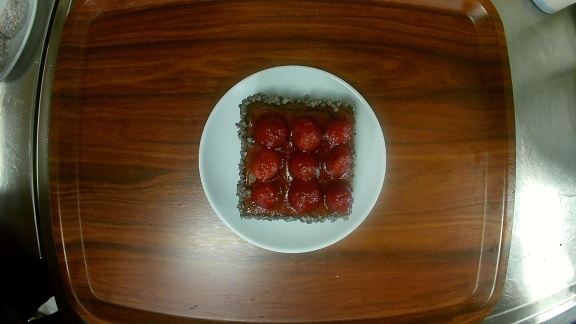cileklipasta: (198, 65, 388, 254)
